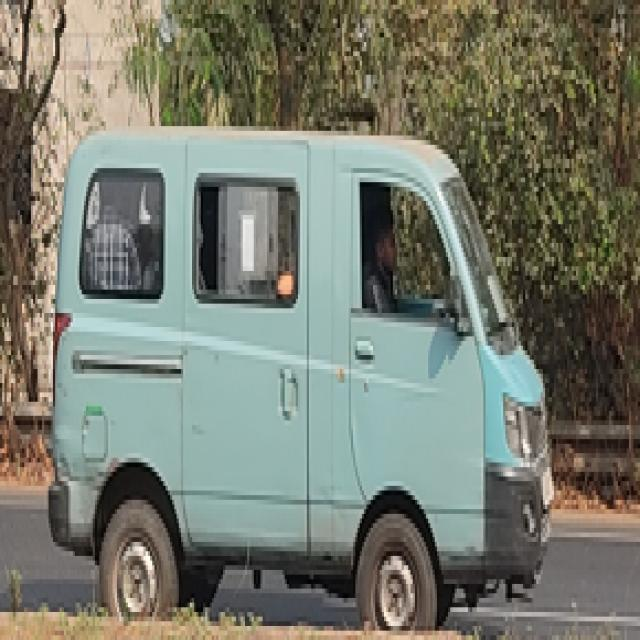van: (46, 122, 558, 636)
